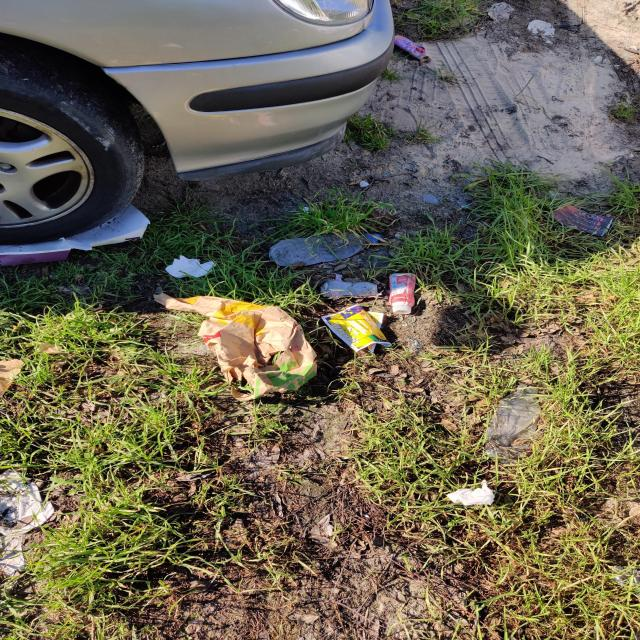litter: (150, 205, 427, 418)
